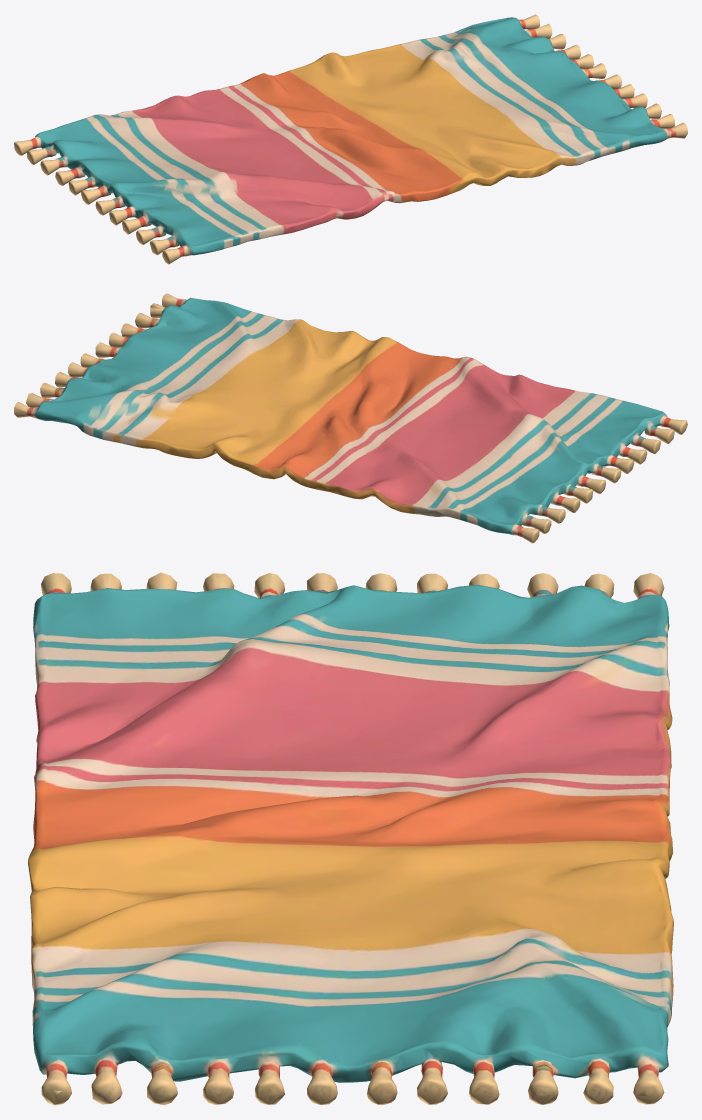
The model's file is toalla.glb.
3 views of the same model, one above another, from view 1: azimuth 30°, elevation 25°; view 2: azimuth 150°, elevation 25°; view 3: azimuth 270°, elevation 25° (orthographic). The views are drawn at different scales.
Visible parts, largest first — view 1: tripo_node_7a0b29e2-4f46-41ea-9700-170a7ad28576; view 2: tripo_node_7a0b29e2-4f46-41ea-9700-170a7ad28576; view 3: tripo_node_7a0b29e2-4f46-41ea-9700-170a7ad28576.
Boxes of the visible parts, x1,y1,x2,y2 form: tripo_node_7a0b29e2-4f46-41ea-9700-170a7ad28576: [14, 14, 687, 264]; tripo_node_7a0b29e2-4f46-41ea-9700-170a7ad28576: [14, 293, 687, 543]; tripo_node_7a0b29e2-4f46-41ea-9700-170a7ad28576: [28, 572, 673, 1105].
Bounding box in the file's own units: 1 × 0.0548 × 0.5345.
Materials: 1 (1 with a texture image).
